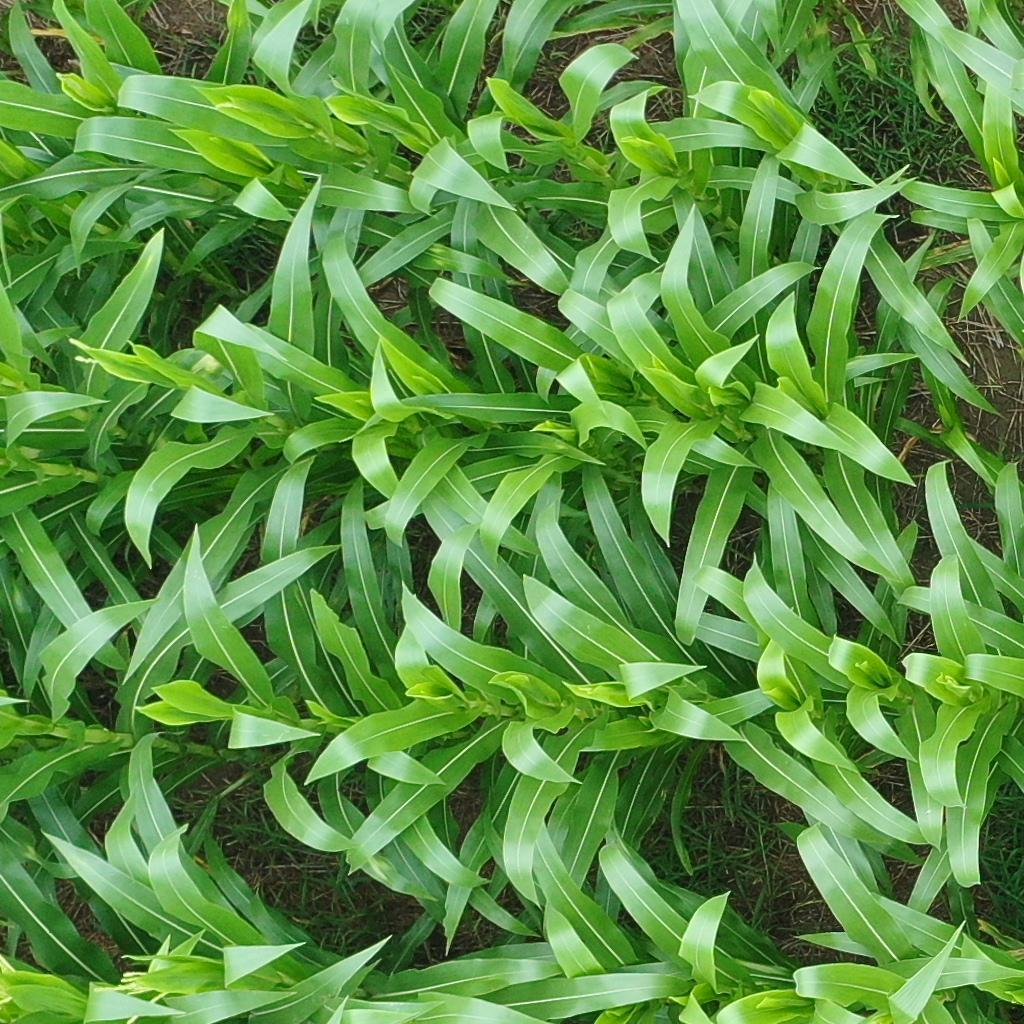Tassel: (92, 962, 174, 1024), (64, 333, 112, 377), (208, 94, 241, 115)
